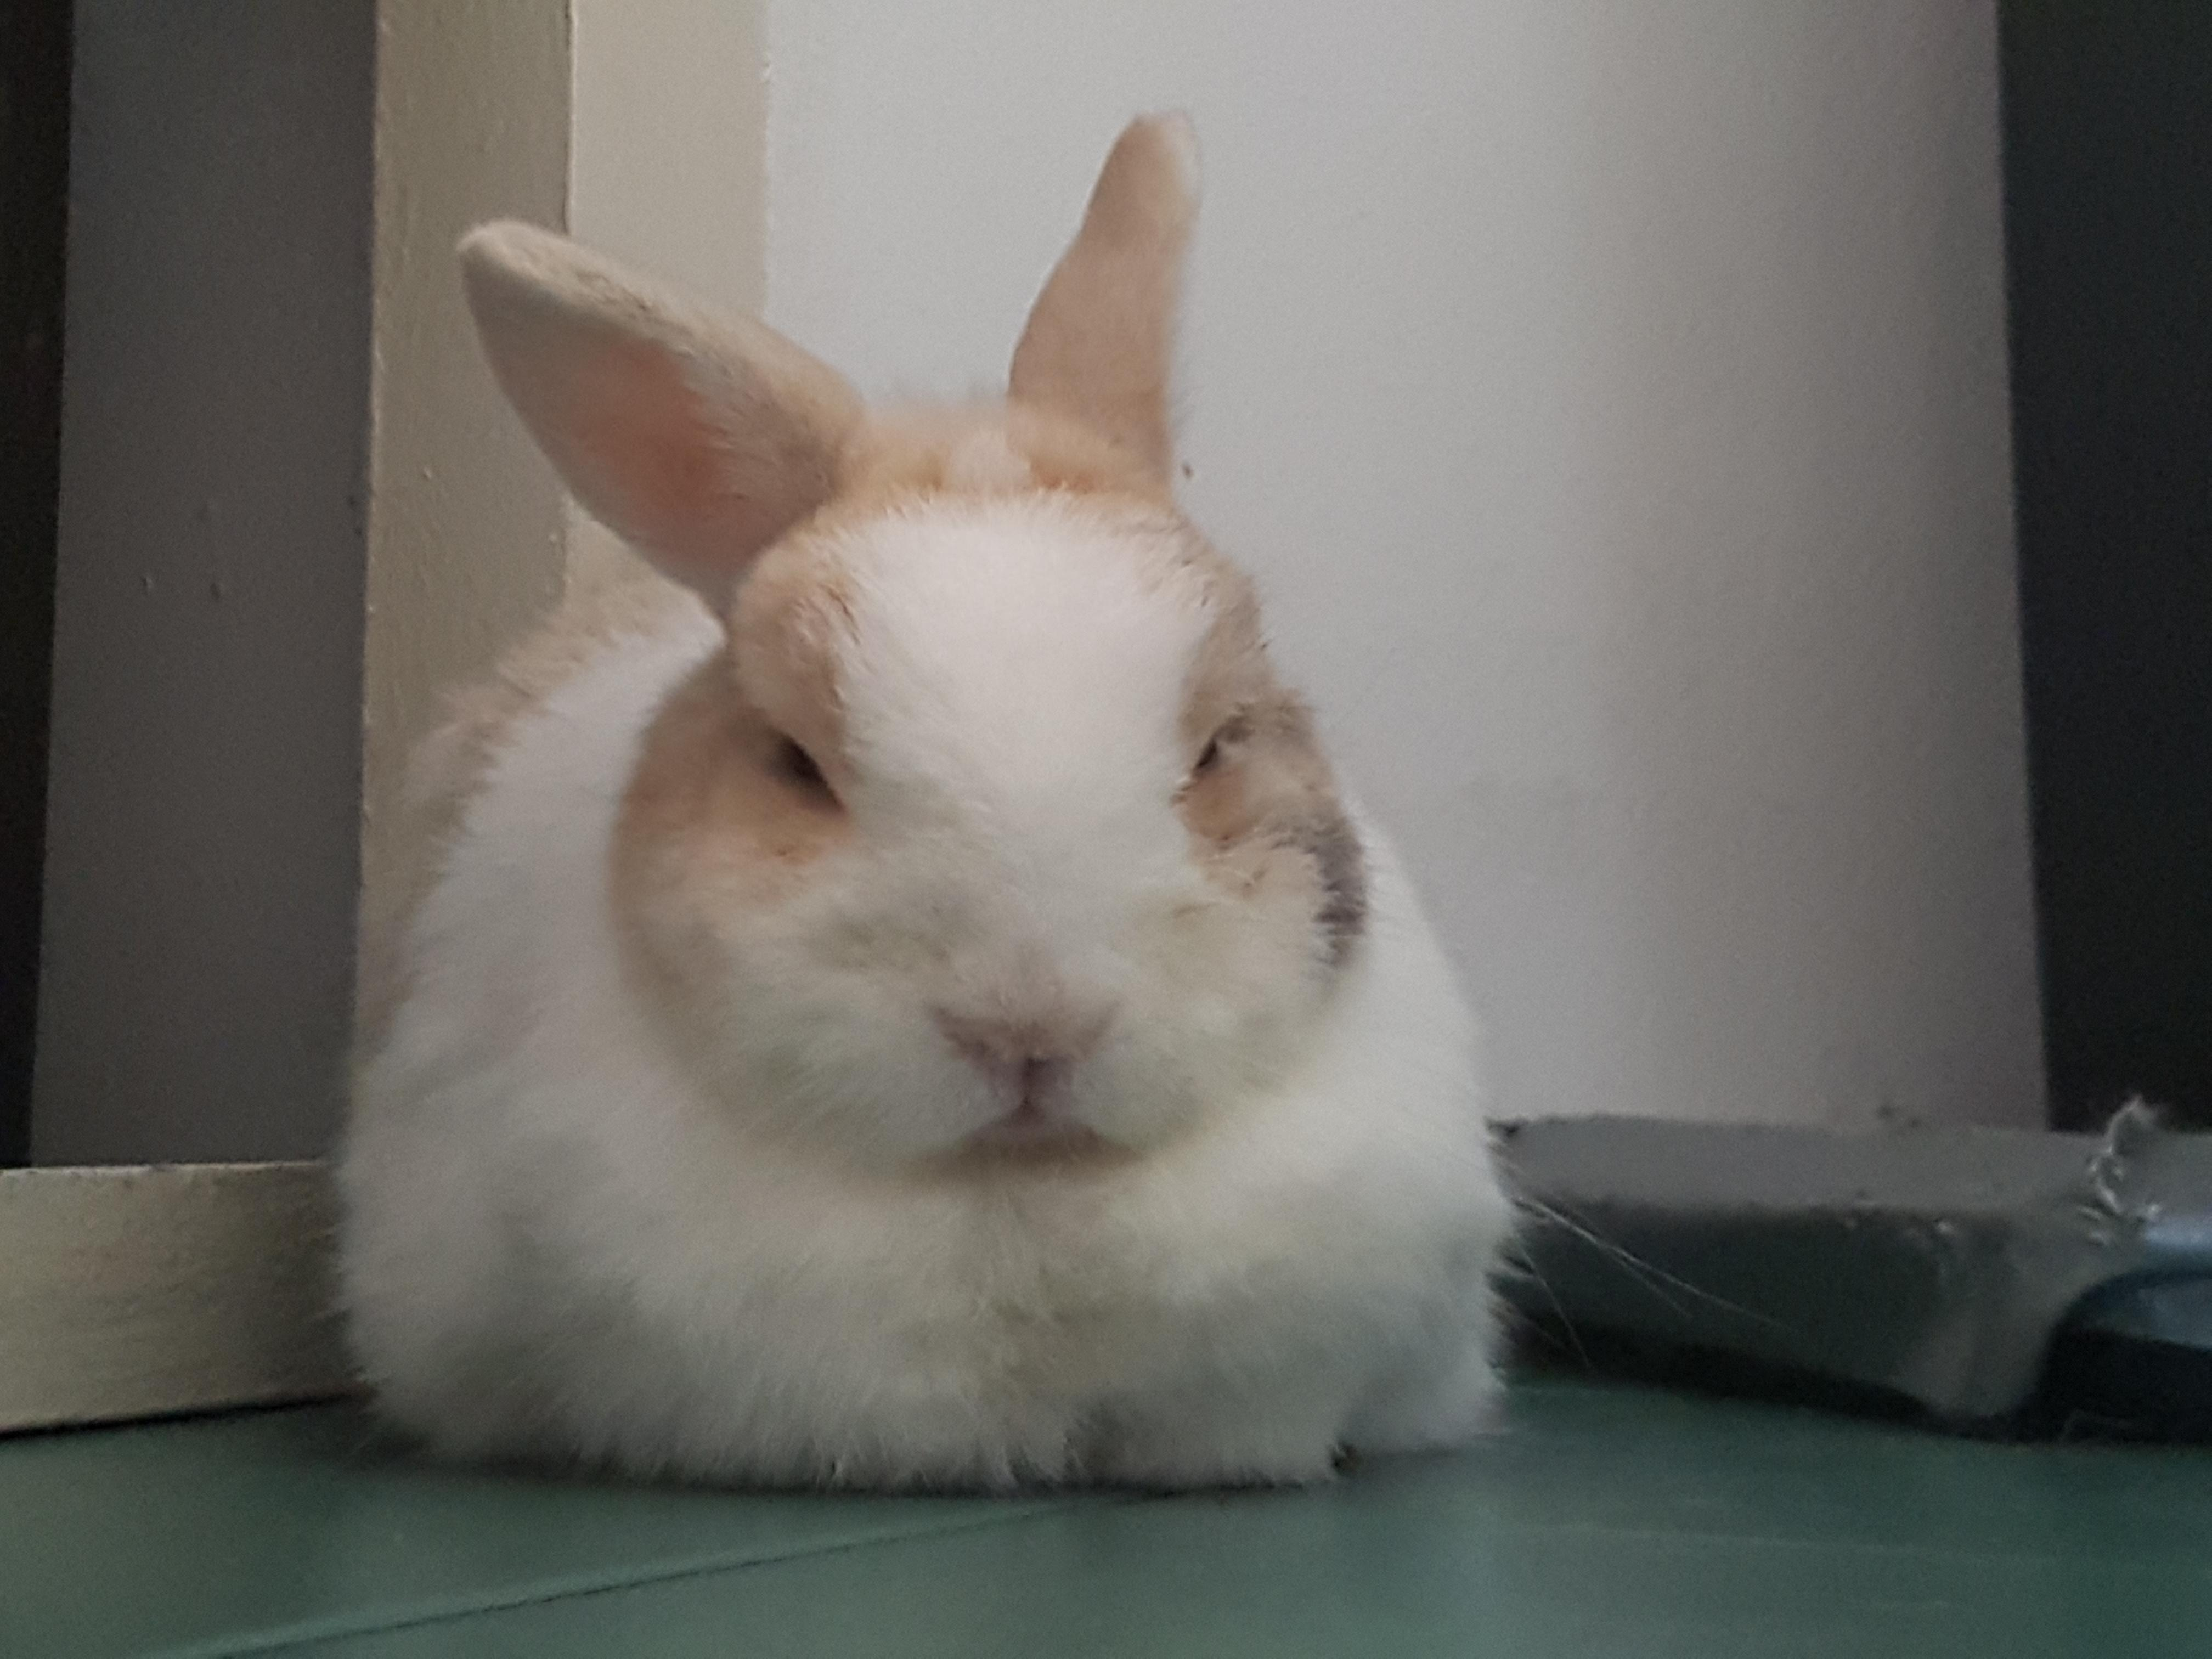bunny: (223, 78, 1594, 1547)
